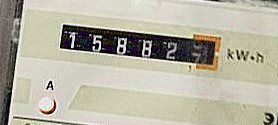1: (65, 28, 76, 47)
2: (164, 38, 178, 59)
5: (87, 31, 103, 51)
7: (187, 48, 201, 61)
8: (138, 35, 153, 57), (114, 33, 128, 54)
screen: (52, 14, 225, 74)
